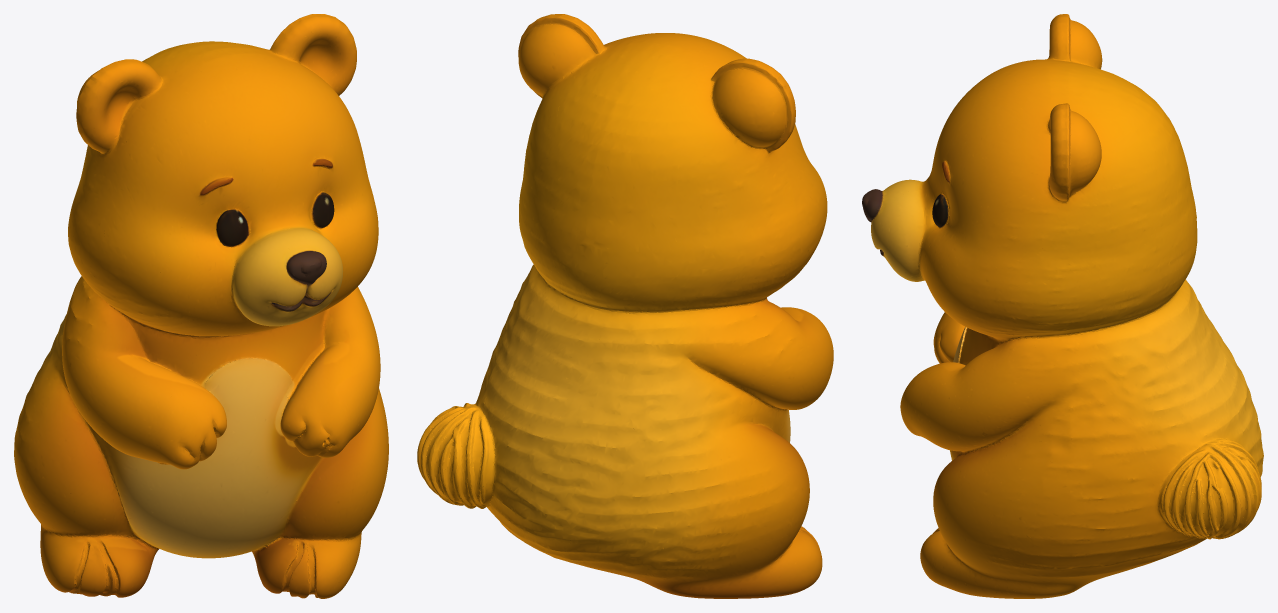
Rendered from base_basic_pbr.glb.
The picture shows the model from 3 angles, left to right: view 1: azimuth 30°, elevation 25°; view 2: azimuth 150°, elevation 25°; view 3: azimuth 270°, elevation 25°; orthographic projection. The views are drawn at different scales.
Parts seen in each view (by area): view 1: model; view 2: model; view 3: model.
Part boxes in pixels (<box>): model: <box>14,14,388,598</box>; model: <box>417,14,833,598</box>; model: <box>862,14,1263,598</box>.
Bounding box in the file's own units: 1.22 × 1.9 × 1.39.
Materials: 1 (1 with a texture image).
